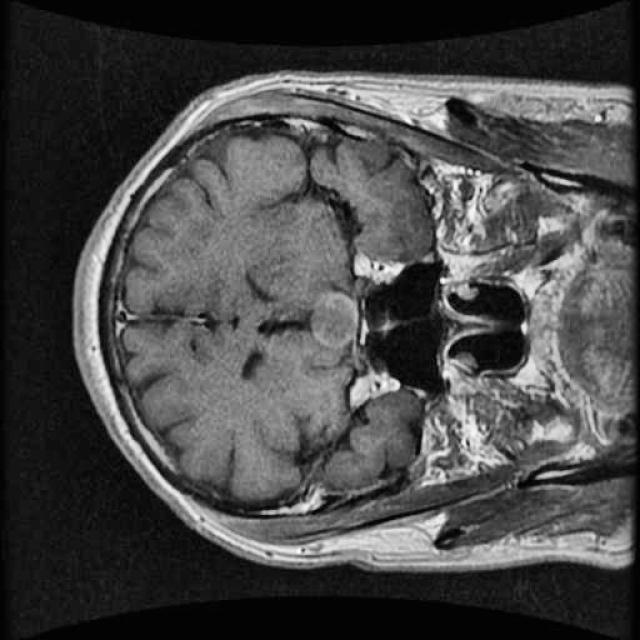Tumor: (302, 278, 364, 358)
